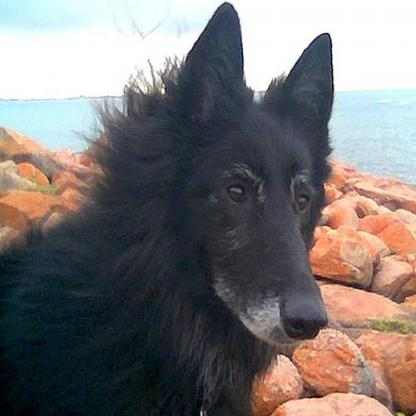groenendael: (0, 3, 331, 413)
